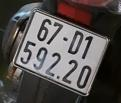0: (75, 62, 95, 92)
1: (77, 34, 96, 64)
2: (41, 50, 64, 81), (59, 55, 79, 88)
5: (18, 38, 37, 66)
6: (34, 17, 55, 43)
7: (44, 20, 65, 47)
9: (30, 44, 51, 71)
D: (66, 28, 86, 56)
